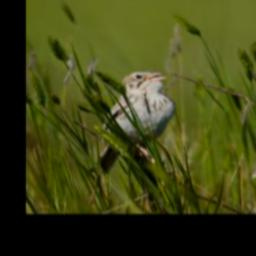Sparrow: (92, 70, 178, 173)
